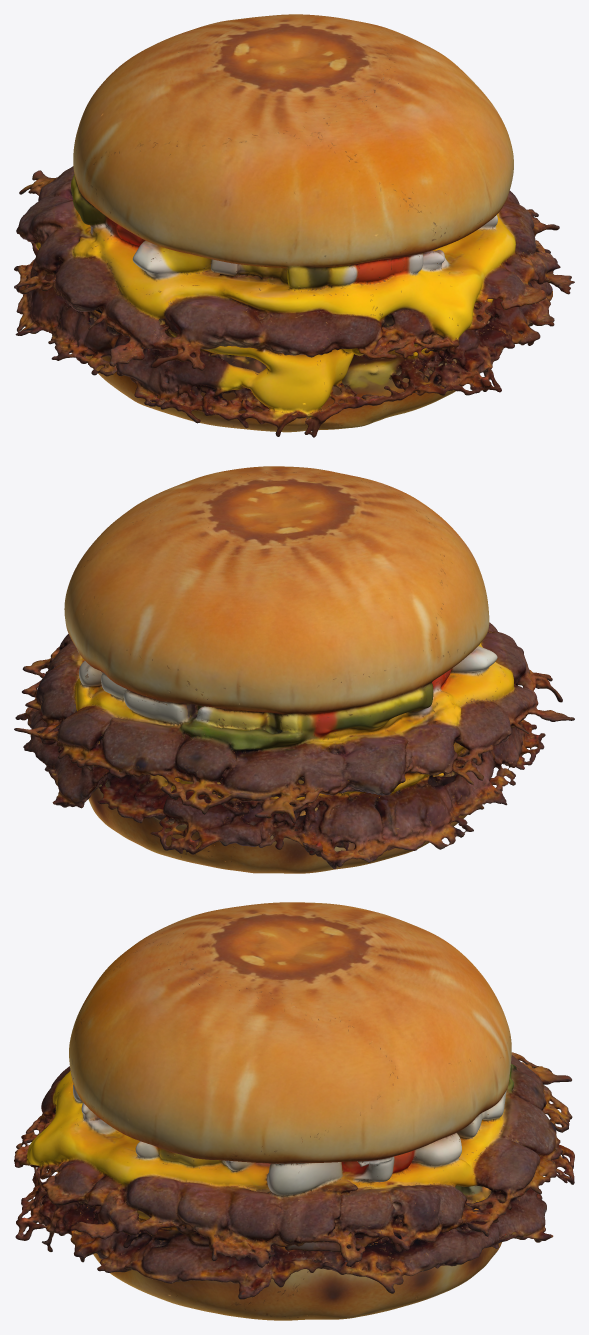
File: burger.glb
The picture shows the model from 3 angles, top to bottom: view 1: azimuth 30°, elevation 25°; view 2: azimuth 150°, elevation 25°; view 3: azimuth 270°, elevation 25°; orthographic projection. The views are drawn at different scales.
Bounding box in the file's own units: 65198 × 38436 × 65534.
Materials: 1 (1 with a texture image).
